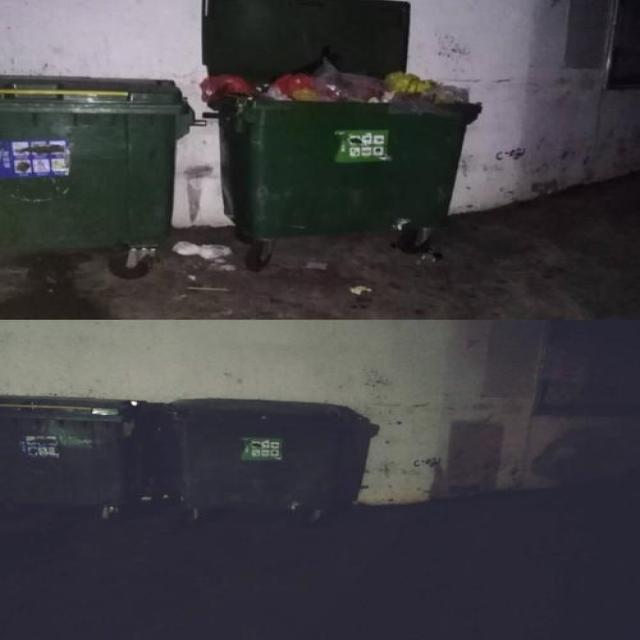garbage: (173, 241, 234, 272)
garbage_bin: (0, 75, 193, 253), (168, 395, 379, 512), (0, 394, 145, 506)
overflow: (200, 71, 480, 236)
